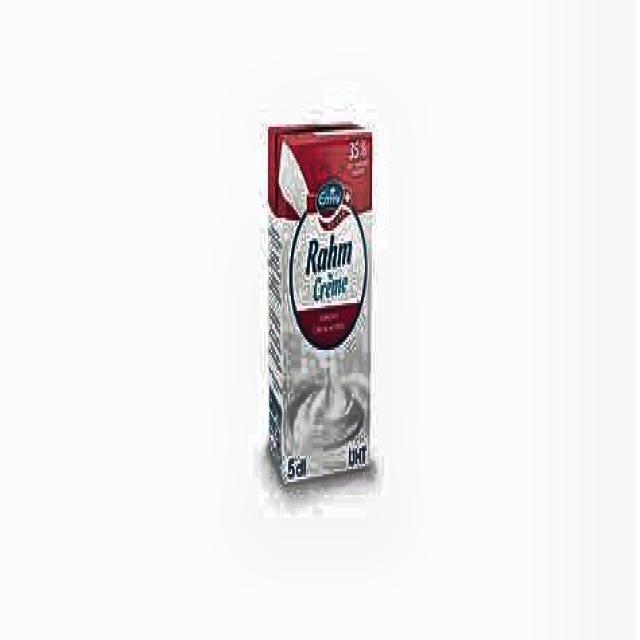cardboard: (266, 122, 374, 484)
